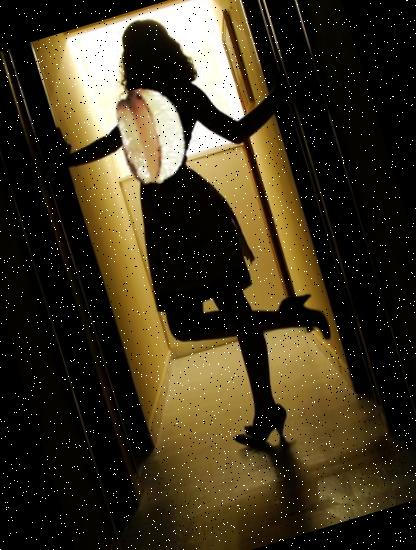Carambula: (91, 74, 212, 195)
